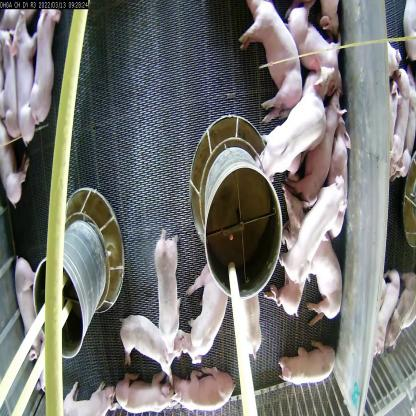Pig: (233, 0, 302, 124), (260, 78, 322, 192), (286, 199, 338, 319), (144, 229, 186, 361), (6, 255, 48, 383), (286, 192, 343, 279), (177, 267, 228, 358), (107, 300, 176, 367), (308, 85, 342, 210), (110, 365, 180, 415), (263, 241, 304, 325), (278, 336, 332, 398), (28, 6, 53, 138), (172, 365, 238, 415), (0, 108, 27, 229), (56, 373, 124, 415), (0, 29, 18, 132), (15, 31, 27, 148), (242, 288, 260, 356)
